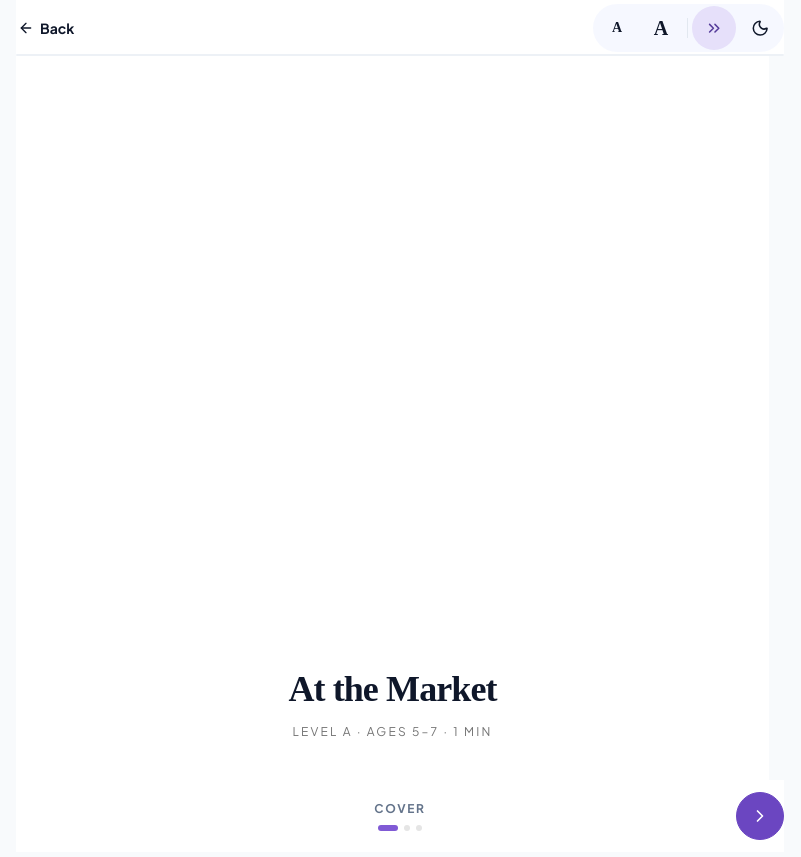
Test: a recording that did not arrive › does not offer a retry a browser that cannot play the format could never win
The image size is (801, 857).
Click the button named "Next page" at (760, 816), box [736,792,784,840]
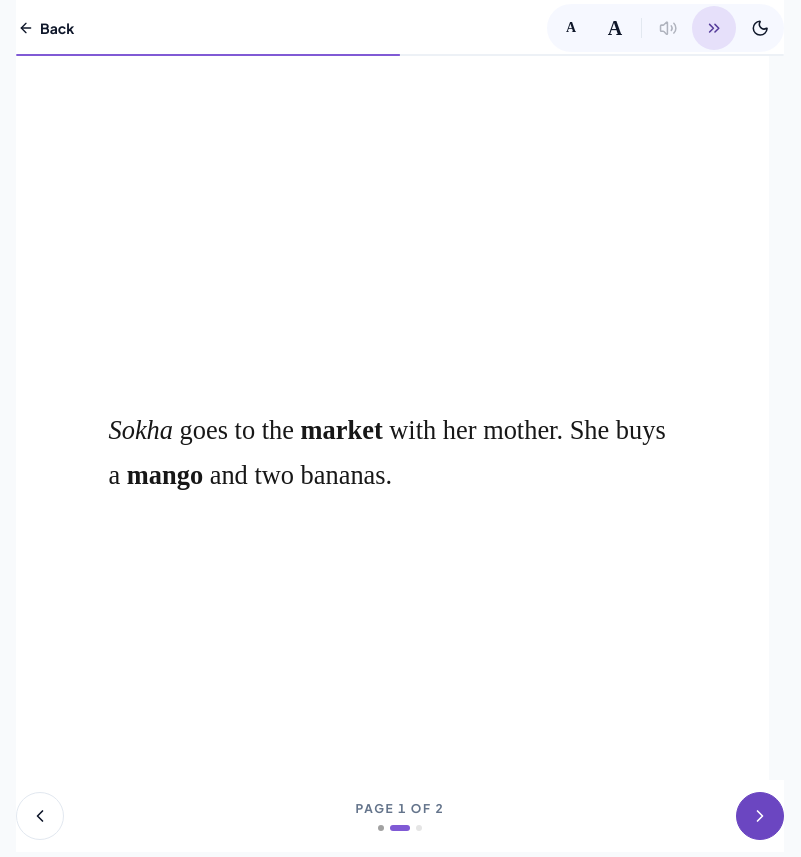
Now the button named "Play page recording" is disabled, box [646,6,690,50]
